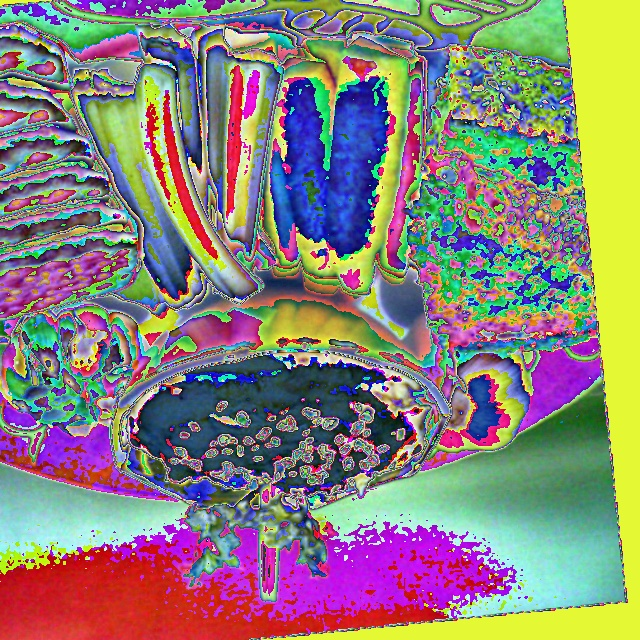background: (0, 20, 597, 461), (124, 254, 433, 602)
